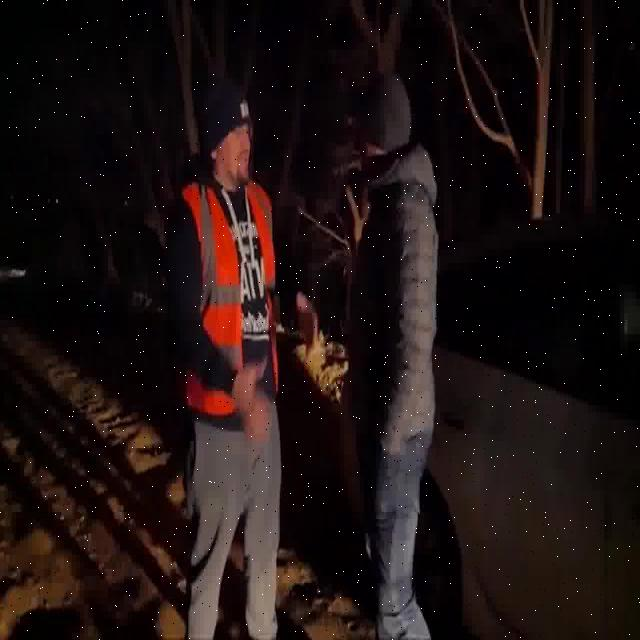Person: (165, 89, 311, 640)
Vest: (185, 186, 280, 416)
